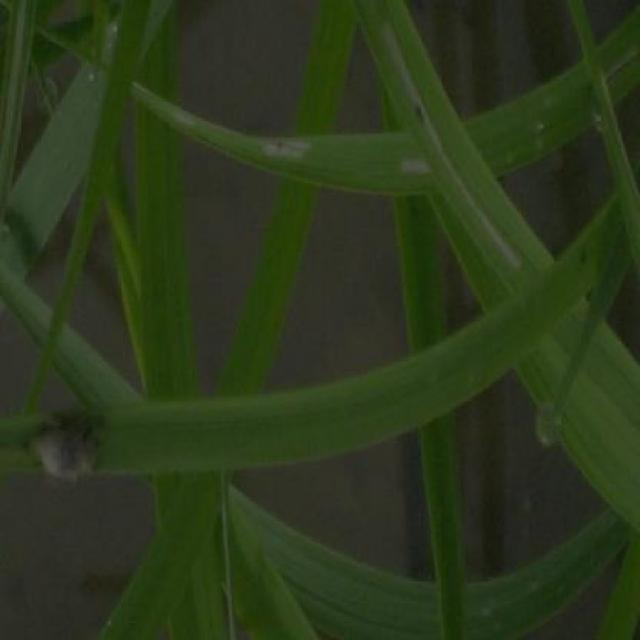rice-bug: (31, 408, 103, 483)
